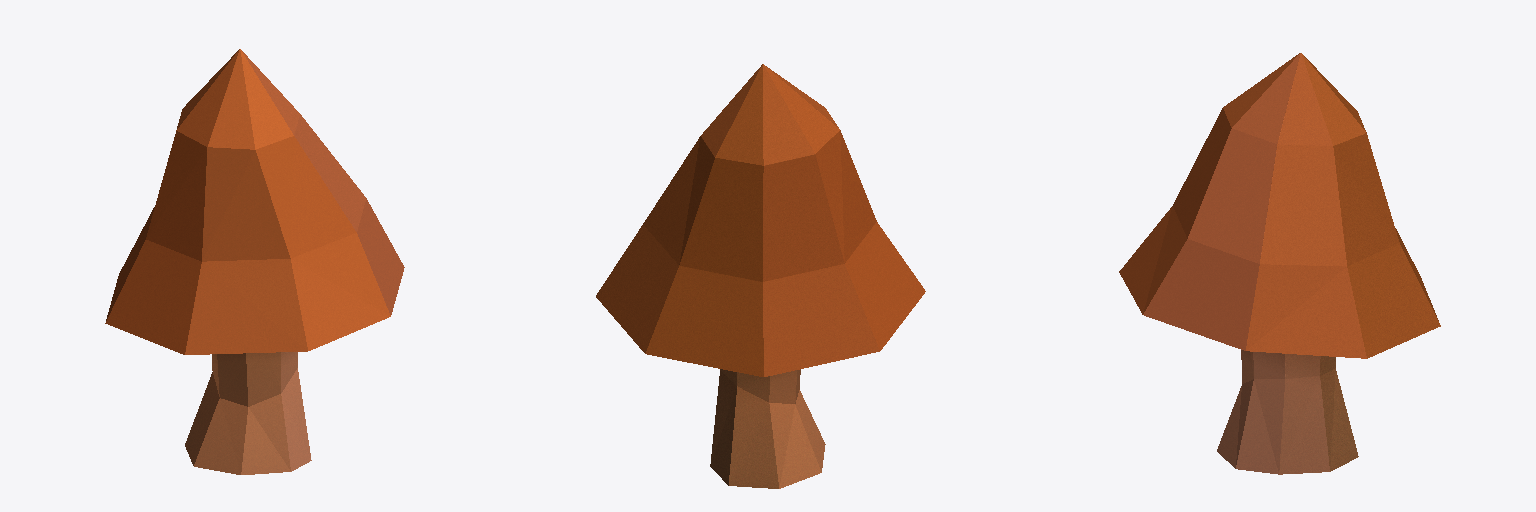
The picture shows the model from 3 angles: view 1: azimuth 30°, elevation 25°; view 2: azimuth 150°, elevation 25°; view 3: azimuth 270°, elevation 25°; orthographic projection.
Visible parts, largest first — view 1: Mushroom2_Cylinder.054; view 2: Mushroom2_Cylinder.054; view 3: Mushroom2_Cylinder.054.
Part boxes in pixels (bbox=[...]): Mushroom2_Cylinder.054: bbox=[105, 49, 404, 474]; Mushroom2_Cylinder.054: bbox=[596, 64, 925, 488]; Mushroom2_Cylinder.054: bbox=[1119, 53, 1440, 474].
Size of the model in its own units: 0.5566 by 0.8134 by 0.5899.
Materials: 2 (1 with a texture image).